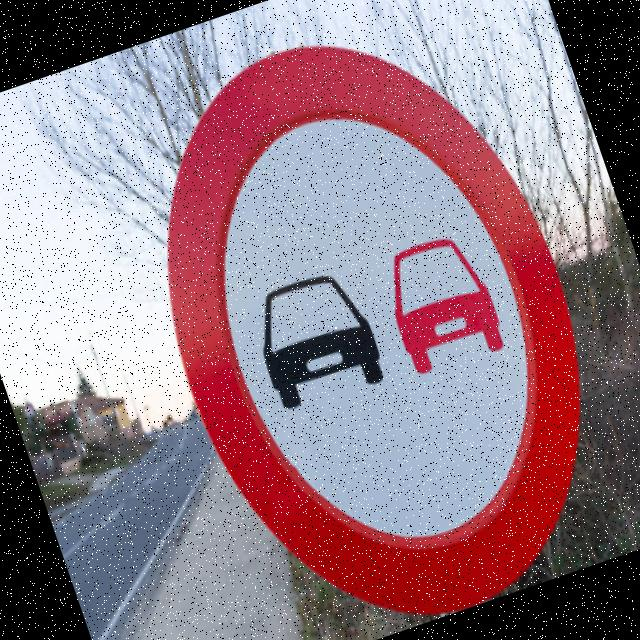no_passing: (90, 0, 640, 640)
